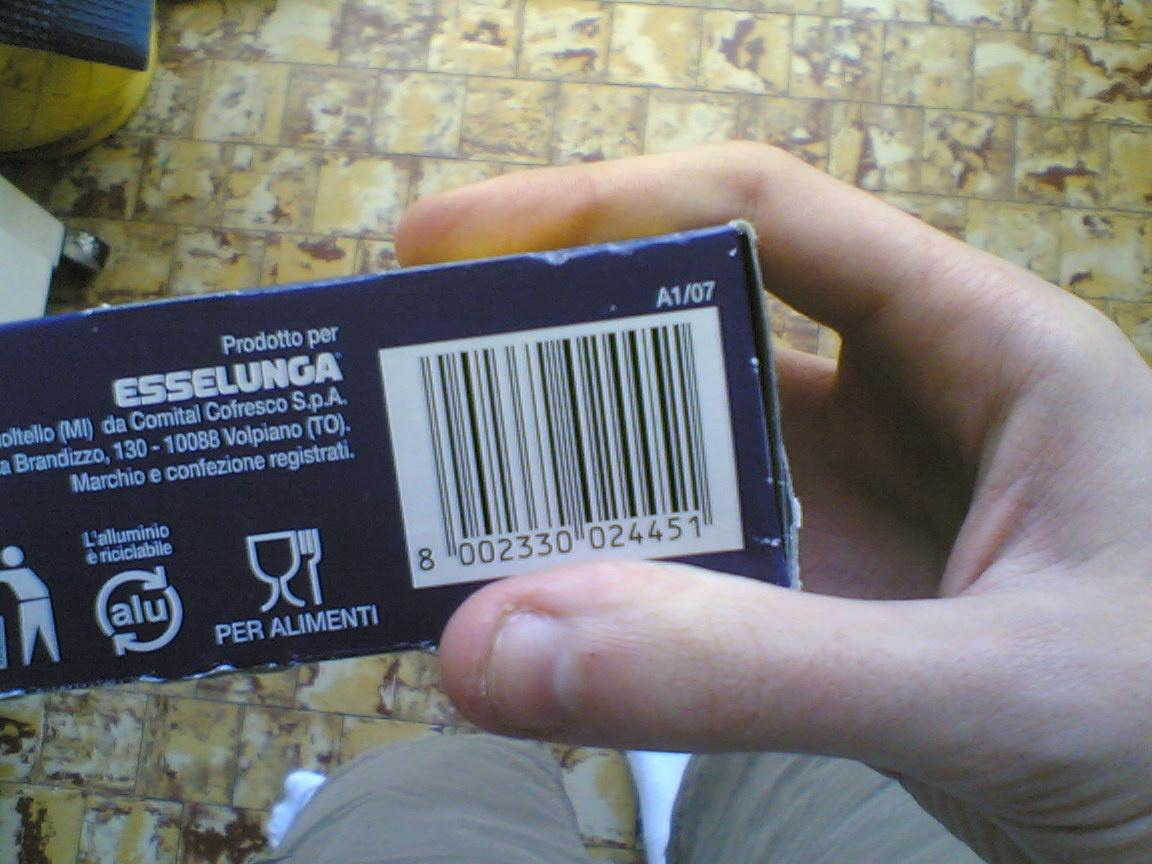Barcode: (378, 305, 747, 584)
